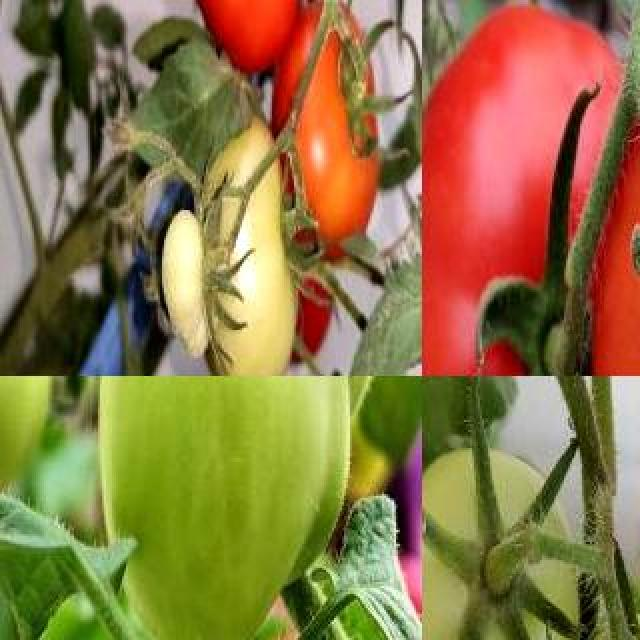Fresh_Tomato: (422, 2, 616, 376), (270, 0, 382, 276), (182, 0, 308, 160), (594, 0, 640, 376)
